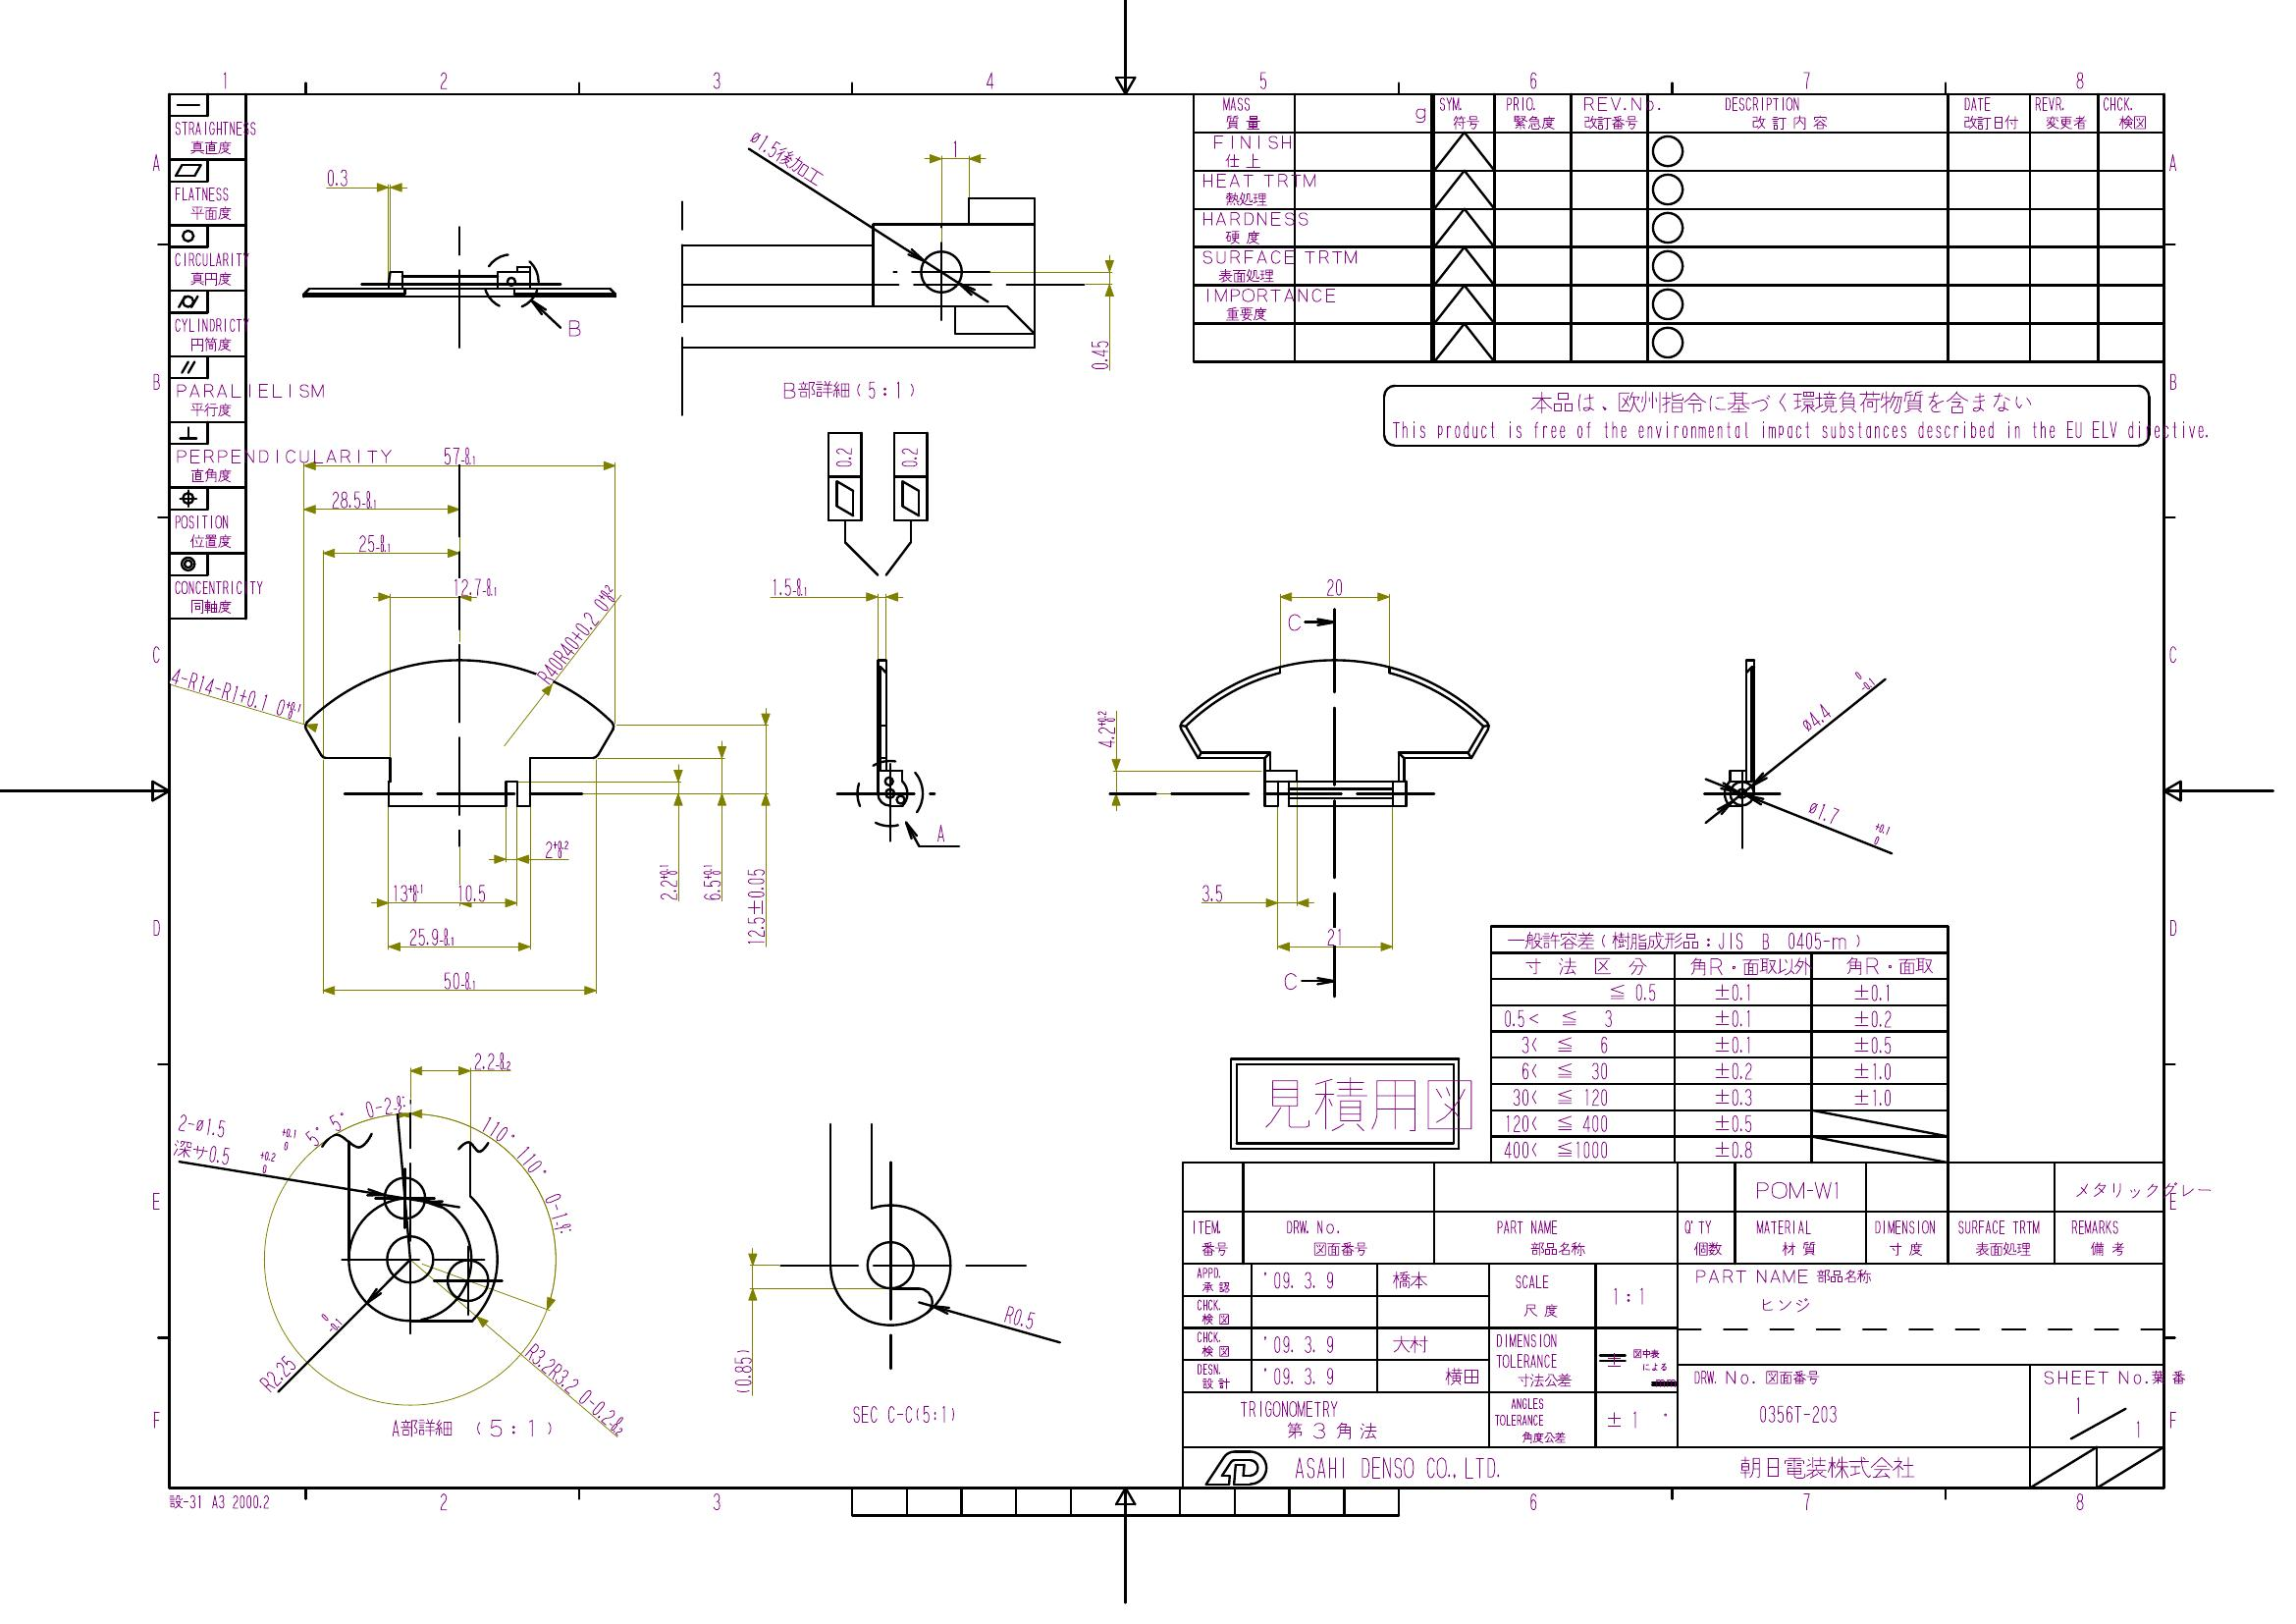anntotation_text: (1381, 387, 2150, 446), (1230, 1056, 1460, 1149), (390, 1417, 555, 1438), (782, 378, 915, 399), (848, 1403, 959, 1424), (169, 1492, 272, 1512), (564, 316, 581, 339), (1286, 613, 1303, 631), (1282, 970, 1298, 990), (933, 824, 949, 844)
dimension_text: (458, 1156, 603, 1190), (174, 1114, 299, 1144), (248, 1336, 350, 1362), (169, 1142, 278, 1167), (515, 1378, 641, 1399), (304, 1107, 409, 1132), (1808, 808, 1892, 833), (747, 146, 831, 170), (1792, 689, 1881, 712), (520, 626, 636, 643), (745, 868, 764, 946), (731, 1346, 752, 1394), (408, 926, 457, 946), (1001, 1304, 1038, 1329), (453, 578, 497, 598), (330, 490, 378, 508), (659, 861, 678, 903), (1096, 708, 1116, 749), (473, 1051, 511, 1070), (701, 865, 720, 903), (441, 445, 480, 464), (769, 576, 808, 596), (358, 533, 390, 554), (441, 972, 478, 990), (1089, 339, 1108, 371), (1198, 881, 1224, 903), (541, 840, 571, 859), (458, 884, 488, 902), (393, 882, 422, 900), (1323, 575, 1344, 596), (327, 169, 350, 186), (901, 445, 919, 468), (834, 445, 852, 468), (1325, 926, 1344, 944), (949, 139, 959, 156)
object: (683, 199, 1031, 346), (1179, 657, 1490, 805), (302, 659, 613, 805), (320, 1134, 499, 1322), (829, 1123, 950, 1325), (302, 265, 615, 297), (877, 657, 908, 807), (1723, 657, 1755, 805)
title_block: (1182, 1162, 2161, 1487), (1191, 93, 2166, 364), (1490, 924, 1948, 1162), (167, 93, 246, 620)
